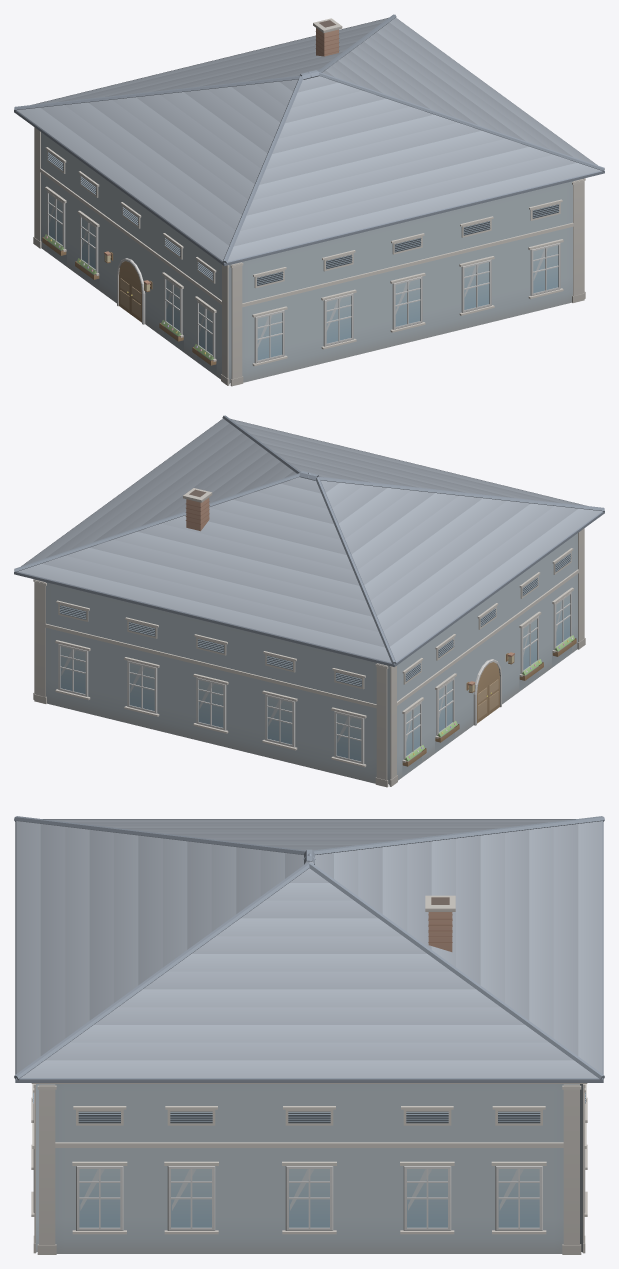
Rendered from rmt_shell.glb.
The picture shows the model from 3 angles, top to bottom: view 1: azimuth 30°, elevation 25°; view 2: azimuth 150°, elevation 25°; view 3: azimuth 270°, elevation 25°; orthographic projection. The views are drawn at different scales.
Parts seen in each view (by area): view 1: rmt_roof, rmt_body; view 2: rmt_roof, rmt_body; view 3: rmt_roof, rmt_body.
Part boxes in pixels (<box>): rmt_roof: <box>14,14,604,265</box>; rmt_body: <box>33,127,585,386</box>; rmt_roof: <box>14,415,604,666</box>; rmt_body: <box>33,528,585,787</box>; rmt_roof: <box>14,816,604,1082</box>; rmt_body: <box>31,1083,587,1254</box>.
Bounding box in the file's own units: 18.84 × 9.42 × 18.04.
